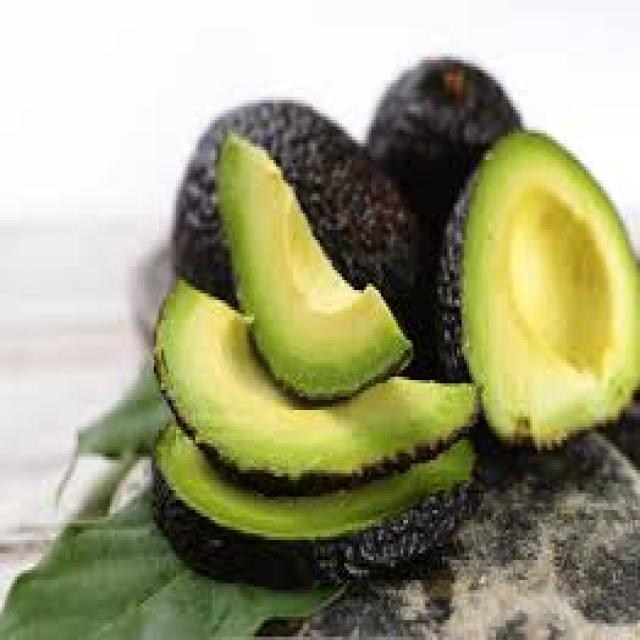biodegradable: (240, 427, 638, 637), (166, 97, 432, 363), (149, 267, 476, 483), (435, 127, 637, 450), (147, 417, 477, 583), (217, 127, 408, 400), (0, 497, 342, 637), (364, 60, 518, 190), (56, 347, 176, 453), (127, 233, 176, 350), (608, 390, 638, 473), (113, 450, 152, 503)
